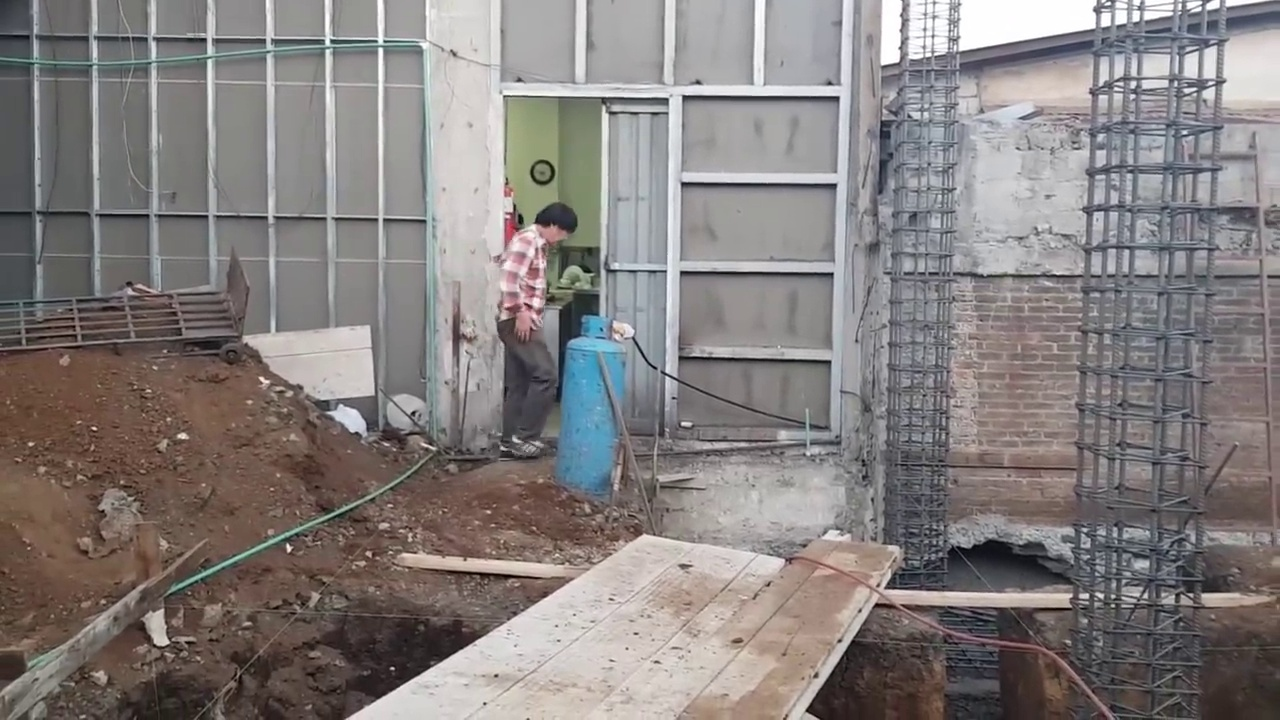helmet-off: (531, 204, 582, 249)
person: (491, 202, 585, 470)
